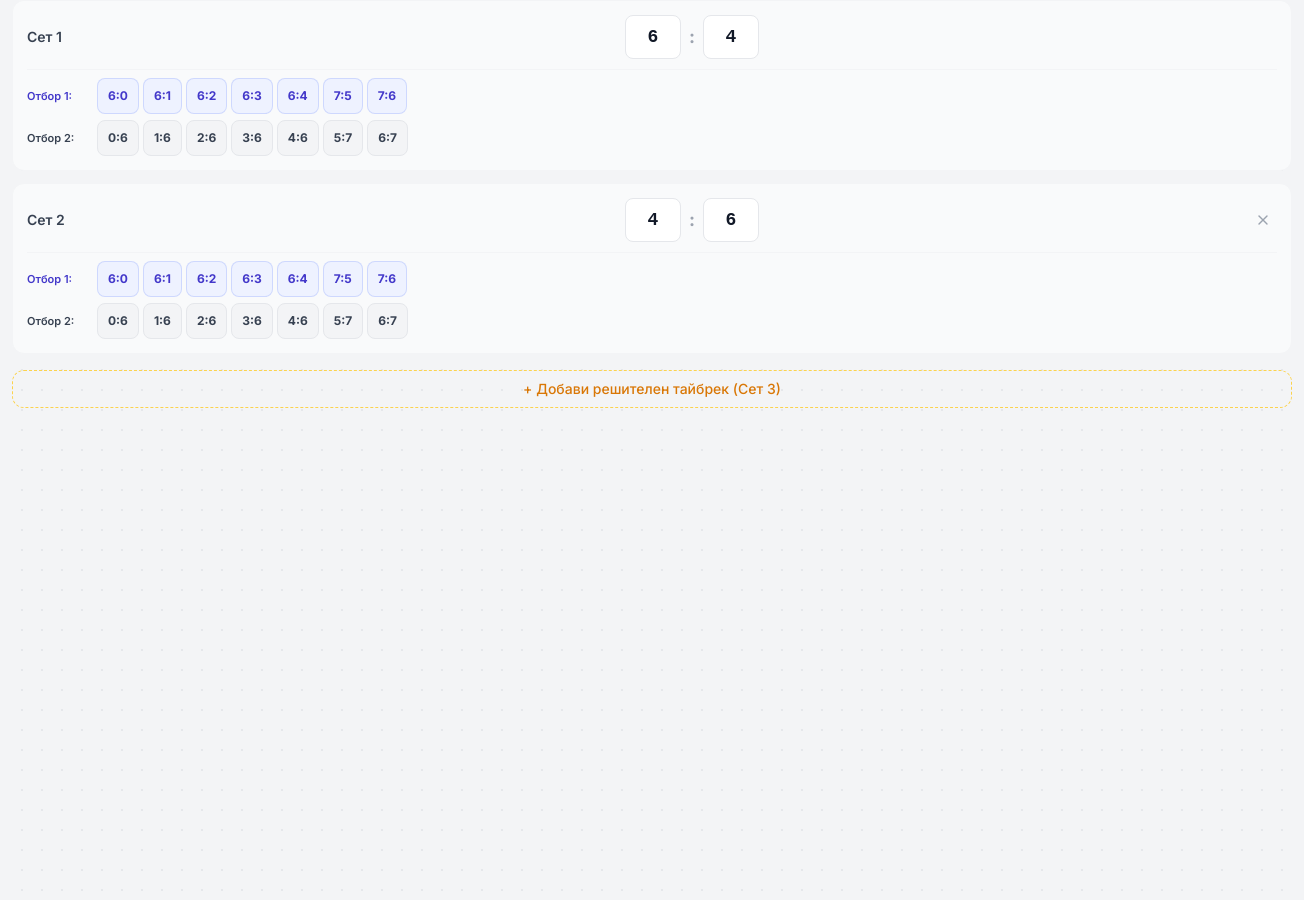
Test: TennisScoreEditor Component › renders clean Set 3 Tiebreak UX: header, numeric inputs, NO steppers, NO presets
Step 1. Click the button "+ Добави решителен тайбрек (Сет 3)" → click(652, 389), box [12,370,1292,408]
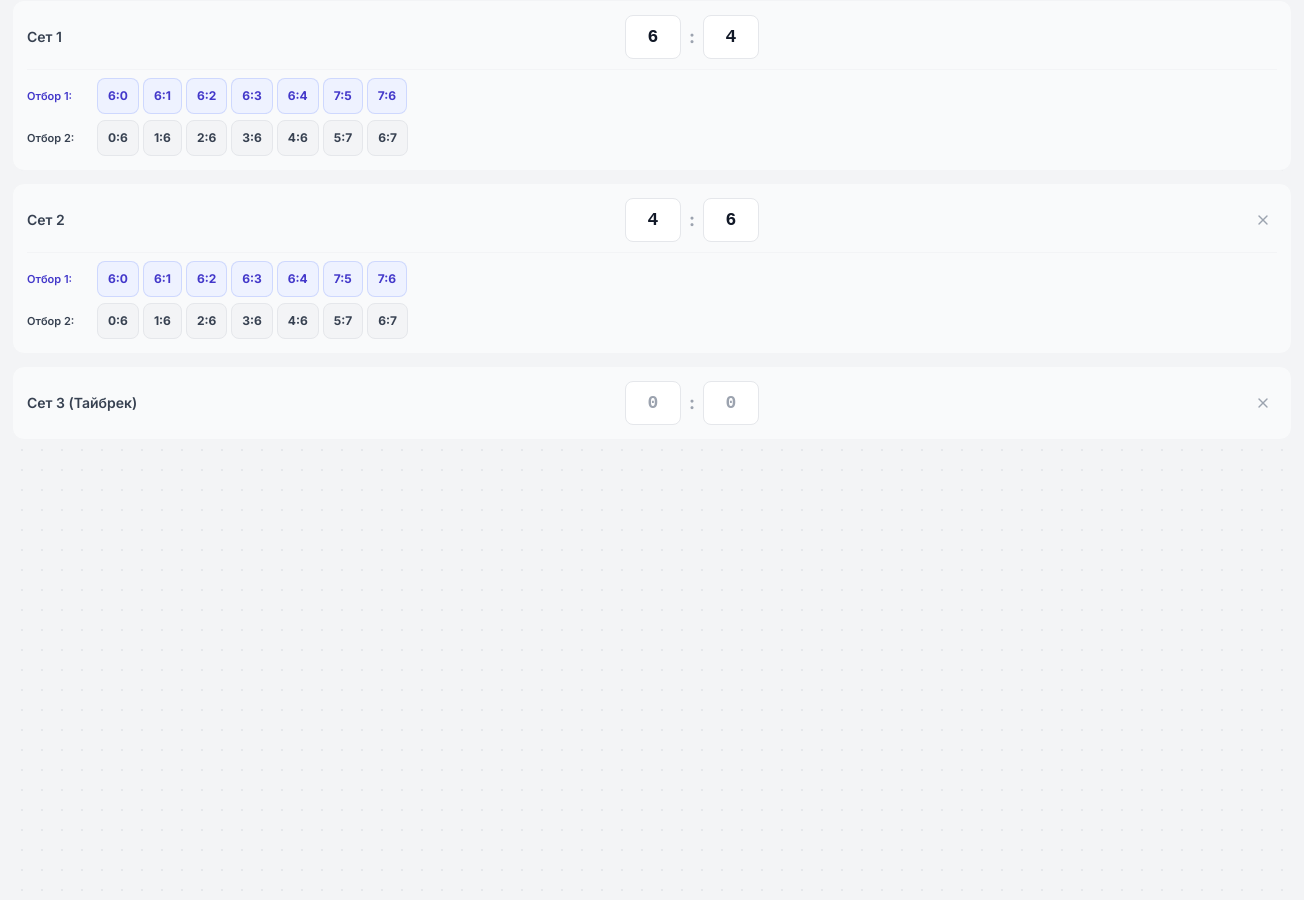
Now the text "Сет 3 (Тайбрек)" is shown, box [27,393,139,413]
Now the field named "Сет 3 Отбор 1" is shown, box [625,381,681,425]
Now the field named "Сет 3 Отбор 2" is shown, box [703,381,759,425]
